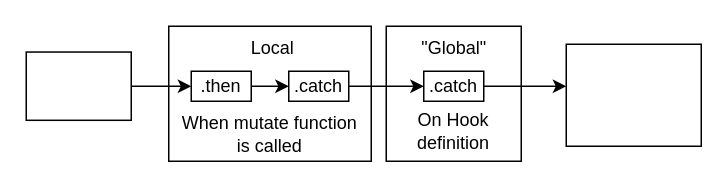
The diagram is 728 pixels wide and 188 high, and some of its shapes have lost their labels. Here are the shapes that lost their labels. From the top down, the centre of each, then its label:
point 78,85: Query fetch("")
point 633,94: Overflow Chained after mutate function
